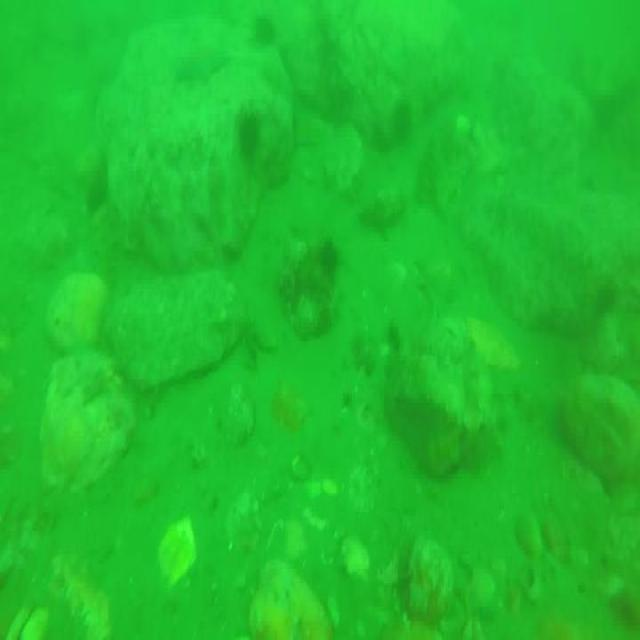echinus: (236, 109, 262, 158), (388, 98, 412, 150), (254, 14, 278, 49), (324, 237, 340, 277)
scallop: (336, 531, 371, 580)
